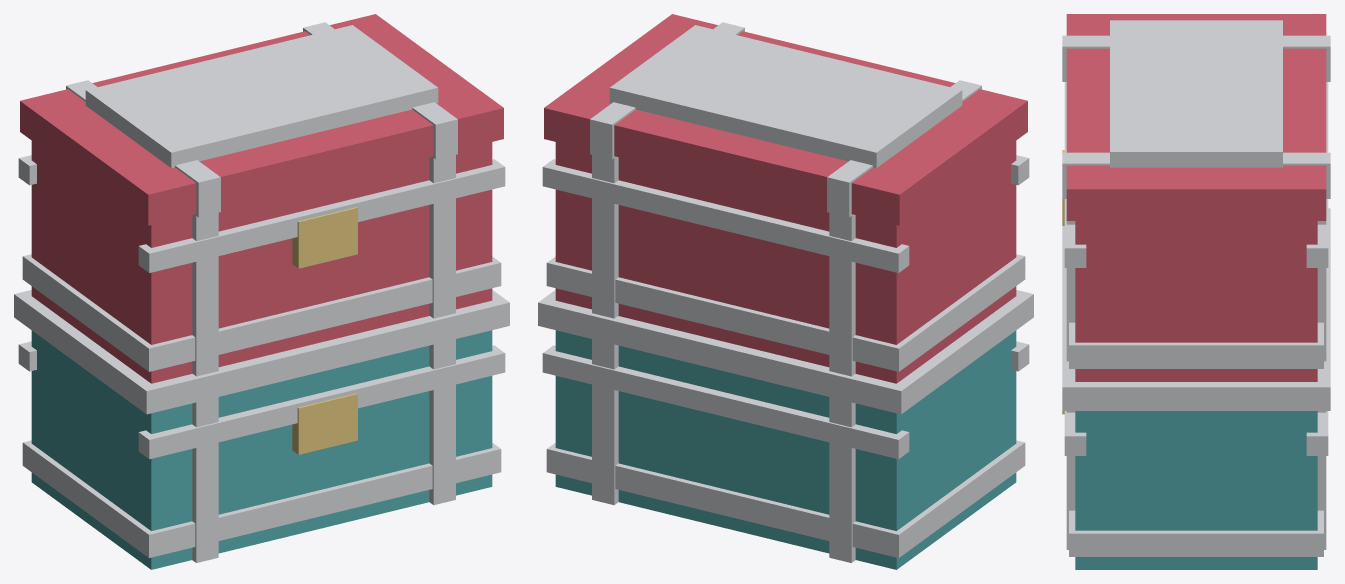
Rendered from indian-bazaar-street-and-temple-tin-trunk-stack-ade4f051__36557.glb.
The picture shows the model from 3 angles, left to right: view 1: azimuth 30°, elevation 25°; view 2: azimuth 150°, elevation 25°; view 3: azimuth 270°, elevation 25°; orthographic projection.
Parts seen in each view (by area): view 1: tin-trunk-stack-steel, tin-trunk-stack-crimson, tin-trunk-stack-teal, lid/steel, lid/crimson, tin-trunk-stack-brass; view 2: tin-trunk-stack-steel, tin-trunk-stack-crimson, tin-trunk-stack-teal, lid/steel, lid/crimson; view 3: tin-trunk-stack-crimson, tin-trunk-stack-teal, tin-trunk-stack-steel, lid/steel, lid/crimson.
Part boxes in pixels (bbox=[...]): tin-trunk-stack-steel: bbox=[14, 155, 509, 562]; tin-trunk-stack-crimson: bbox=[31, 141, 492, 383]; tin-trunk-stack-teal: bbox=[31, 330, 492, 569]; lid/steel: bbox=[66, 22, 457, 217]; lid/crimson: bbox=[20, 14, 503, 225]; tin-trunk-stack-brass: bbox=[292, 207, 357, 454]; tin-trunk-stack-steel: bbox=[538, 155, 1033, 562]; tin-trunk-stack-crimson: bbox=[555, 141, 1016, 383]; tin-trunk-stack-teal: bbox=[555, 330, 1016, 569]; lid/steel: bbox=[590, 22, 981, 217]; lid/crimson: bbox=[544, 14, 1027, 225]; tin-trunk-stack-crimson: bbox=[1075, 221, 1317, 381]; tin-trunk-stack-teal: bbox=[1075, 411, 1317, 569]; tin-trunk-stack-steel: bbox=[1062, 82, 1330, 556]; lid/steel: bbox=[1062, 20, 1330, 198]; lid/crimson: bbox=[1066, 14, 1326, 220].
Size of the model in its own units: 0.98 by 1.02 by 0.62.
